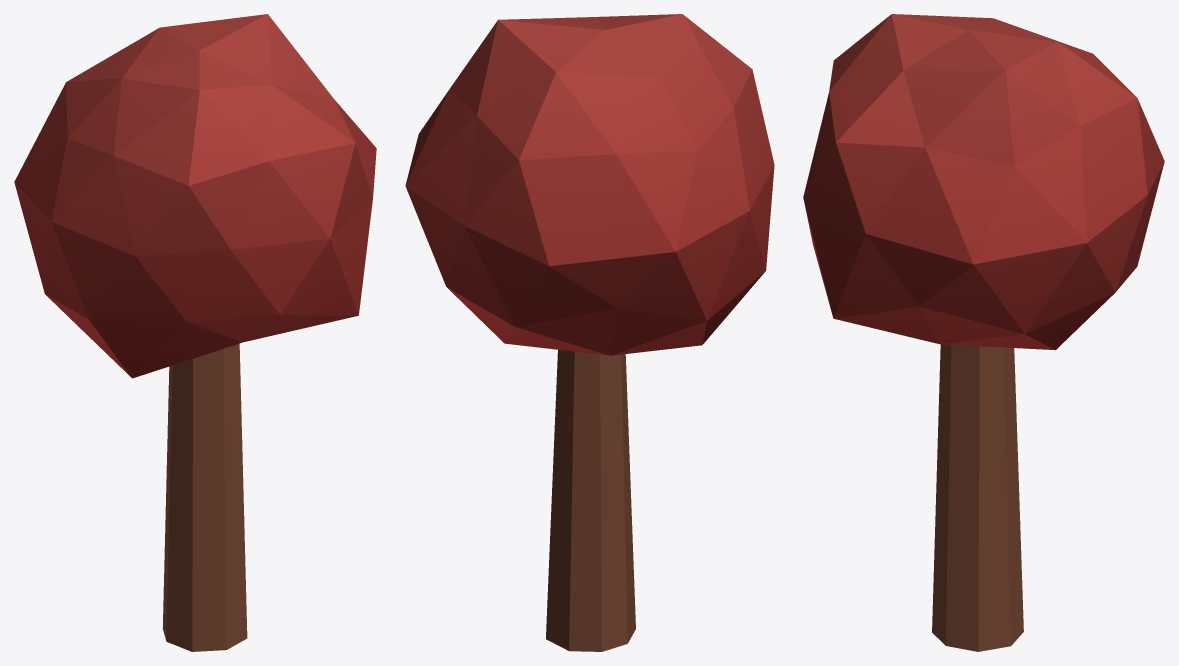
The model's file is Tree_04_gradient_red_vc.fbx.
3 renders of one model, left to right at view 1: azimuth 30°, elevation 25°; view 2: azimuth 150°, elevation 25°; view 3: azimuth 270°, elevation 25°, orthographic. The views are drawn at different scales.
Parts seen in each view (by area): view 1: Tree_04_gradient_red_vc; view 2: Tree_04_gradient_red_vc; view 3: Tree_04_gradient_red_vc.
Part boxes in pixels (x1=…): Tree_04_gradient_red_vc: x1=14, y1=14, x2=376, y2=651; Tree_04_gradient_red_vc: x1=405, y1=14, x2=774, y2=651; Tree_04_gradient_red_vc: x1=803, y1=14, x2=1164, y2=651.
Size of the model in its own units: 111 by 193 by 105.
